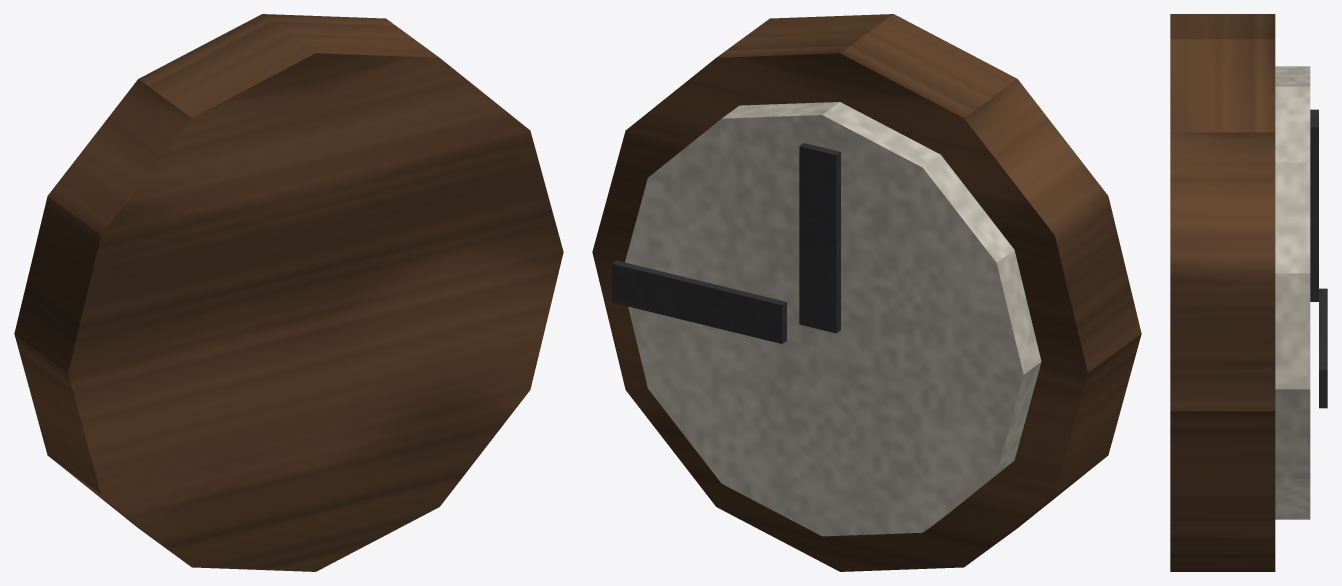
The model's file is wall_clock.fbx.
3 renders of one model, left to right at view 1: azimuth 30°, elevation 25°; view 2: azimuth 150°, elevation 25°; view 3: azimuth 270°, elevation 25°, orthographic. The views are drawn at different scales.
Parts seen in each view (by area): view 1: wall_clock; view 2: wall_clock; view 3: wall_clock.
Part boxes in pixels (<box>): wall_clock: <box>14,14,563,571</box>; wall_clock: <box>592,14,1141,571</box>; wall_clock: <box>1170,14,1327,571</box>.
Bounding box in the file's own units: 32 × 32 × 9.
